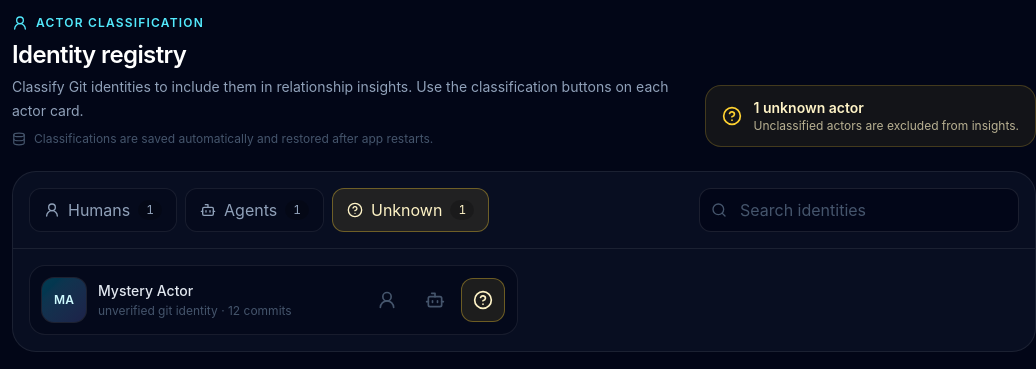
it: IdentityRegistryView › defaults to only unresolved actors while keeping saved classifications in filters
expect the text "1 unknown actor" is shown once: met, box [754, 99, 864, 116]
expect the text "Mystery Actor" is shown: met, box [98, 282, 193, 299]
Click the button "Humans 1" at coordinates (103, 210), box [29, 188, 177, 232]
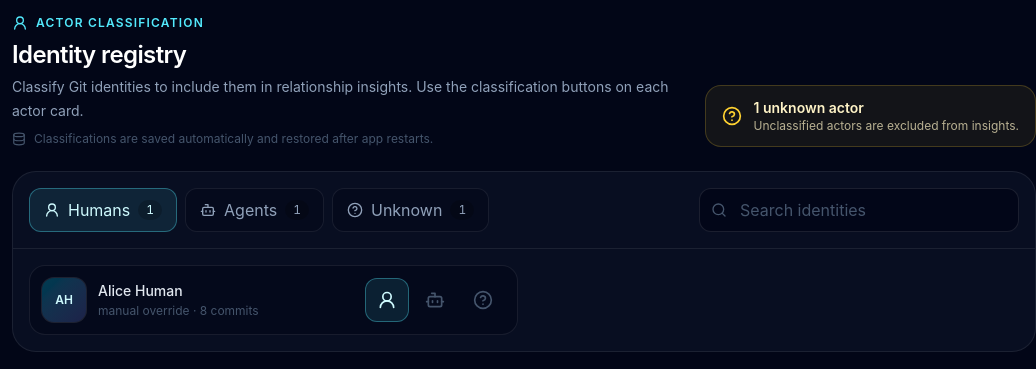
expect the text "Alice Human" is shown: met, box [98, 282, 183, 299]
expect the text "Mystery Actor" is gone: met
